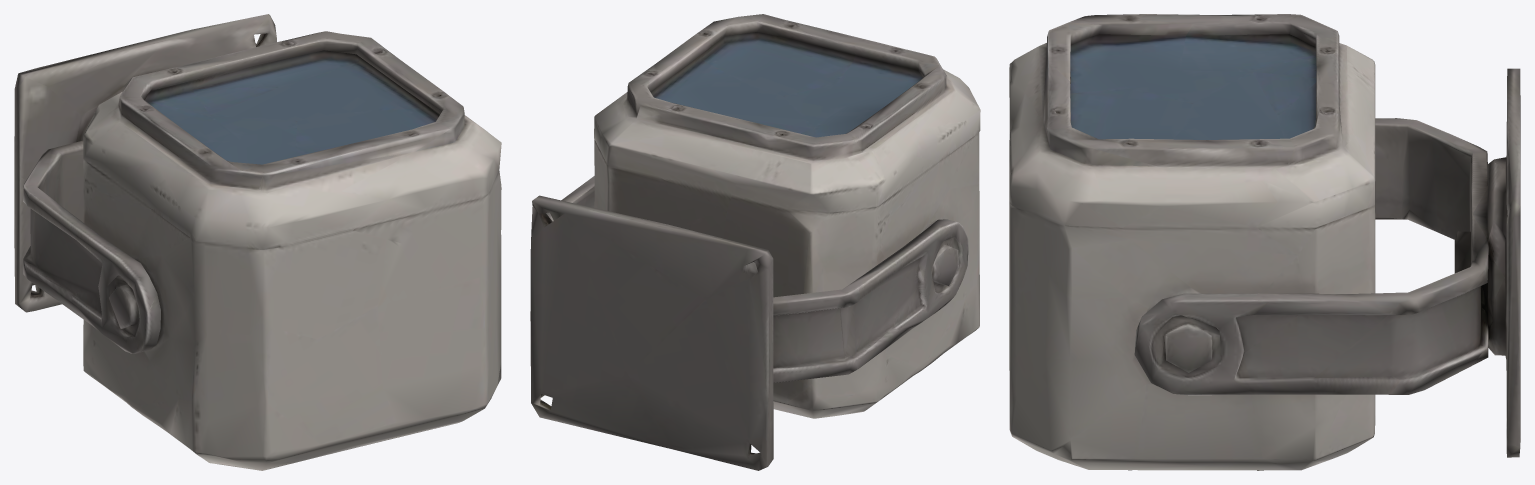
Rendered from floodlight.glb.
3 renders of one model, left to right at view 1: azimuth 30°, elevation 25°; view 2: azimuth 150°, elevation 25°; view 3: azimuth 270°, elevation 25°, orthographic. The views are drawn at different scales.
Visible parts, largest first — view 1: tripo_node_cf5ce2a2-2f51-4170-a437-4b3562da9b57; view 2: tripo_node_cf5ce2a2-2f51-4170-a437-4b3562da9b57; view 3: tripo_node_cf5ce2a2-2f51-4170-a437-4b3562da9b57.
Part boxes in pixels (x1,y1,x2,y2): tripo_node_cf5ce2a2-2f51-4170-a437-4b3562da9b57: (14,14,501,470); tripo_node_cf5ce2a2-2f51-4170-a437-4b3562da9b57: (530,14,980,470); tripo_node_cf5ce2a2-2f51-4170-a437-4b3562da9b57: (1009,14,1520,470).
Bounding box in the file's own units: 0.6 × 0.4912 × 0.6979.
1 material, 1 textured.
